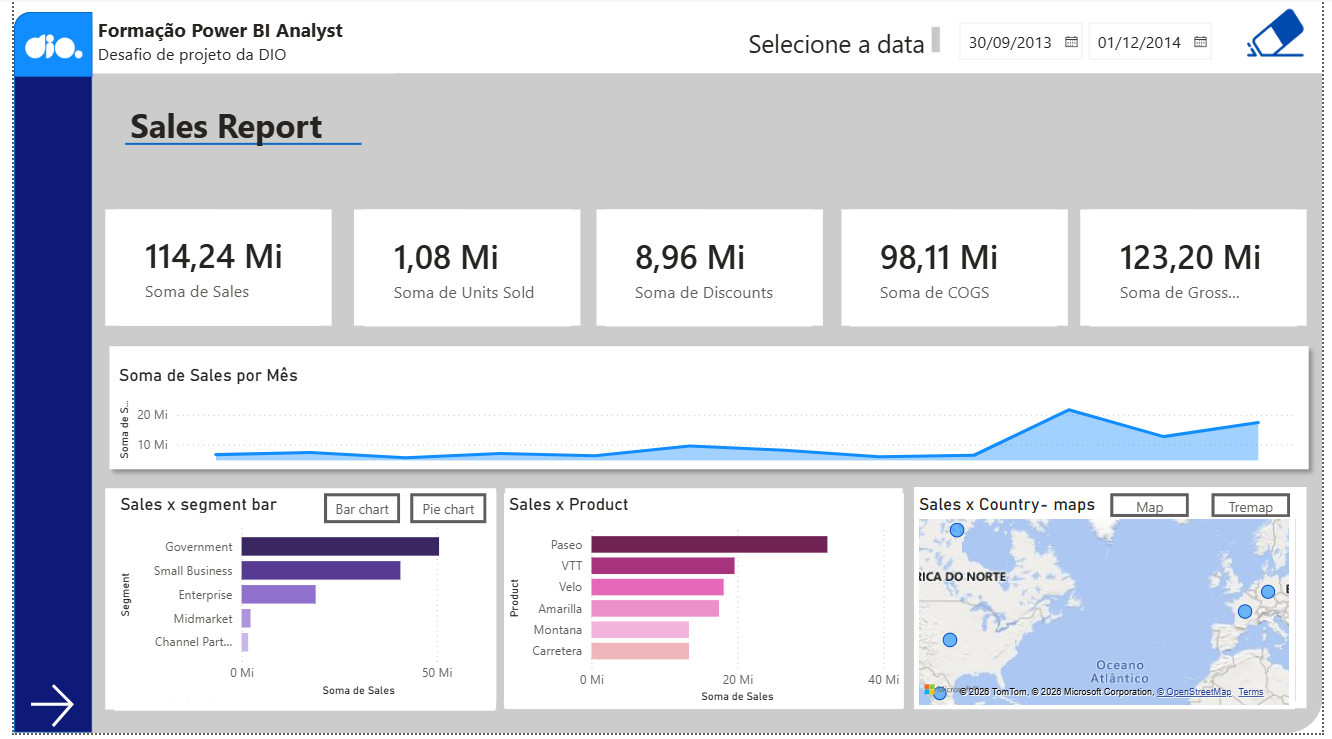

The page's visual inventory and layout, read from the dashboard file:
{"tool":"powerbi","page":{"name":"Página 1","canvas":[1280,720],"ordinal":0},"visuals":[{"type":"image","box":[1195.8,7,75.8,55],"z":0,"group":"g2"},{"type":"shape","box":[0,28.1,1280.3,692.1],"z":0},{"type":"shape","box":[108.4,127,231.1,33],"z":0,"group":"g5"},{"type":"shape","box":[89.3,207.9,221.5,113.7],"z":0,"group":"g1"},{"type":"donutChart","title":"Sales x Segment pie","fields":{"Y":["Sum(financials. Sales)"],"Category":["financials.Segment"]},"box":[97.8,483,372.5,215.2],"z":0,"group":"g4"},{"type":"treemap","title":"Sales x Country tremap","fields":{"Group":["financials.Country"],"Values":["Sum(financials. Sales)"]},"box":[880.6,485.5,378.8,208.7],"z":0,"group":"g3"},{"type":"slicer","fields":{"Values":["financials.Date"]},"box":[912.1,14.3,281.3,47.7],"z":1000,"group":"g2"},{"type":"shape","box":[0,16.7,76.5,702.6],"z":1000},{"type":"textbox","box":[108.4,99.5,228.7,58.7],"z":1000,"group":"g5"},{"type":"shape","box":[332.9,207.9,221.5,113.7],"z":1000,"group":"g1"},{"type":"map","title":"  Sales x Country- maps","fields":{"Size":["Sum(financials. Sales)"],"Category":["financials.Country"]},"box":[880.4,485.4,372.1,211.6],"z":1000,"group":"g3"},{"type":"clusteredBarChart","title":"Sales x segment bar","fields":{"Y":["Sum(financials. Sales)"],"Category":["financials.Segment"]},"box":[99.1,485.7,372.9,203.8],"z":1000,"group":"g4"},{"type":"actionButton","box":[303,485.7,74.6,29.3],"z":1500,"group":"g4"},{"type":"shape","box":[0,14.7,77,63.6],"z":2000},{"type":"textbox","box":[712.8,24.1,198.1,37.9],"z":2000,"group":"g2"},{"type":"shape","box":[569.6,207.9,221.5,113.7],"z":2000,"group":"g1"},{"type":"actionButton","box":[1072.4,485.4,77,23.2],"z":2000,"group":"g3"},{"type":"actionButton","box":[388.1,485.7,74.6,29.3],"z":2000,"group":"g4"},{"type":"actionButton","box":[1195.8,7,73.4,61.1],"z":3000,"group":"g2"},{"type":"image","box":[11,18.3,56.3,59.9],"z":3000},{"type":"shape","box":[809.1,207.9,221.5,113.7],"z":3000,"group":"g1"},{"type":"actionButton","box":[1171.7,485.3,77,23.6],"z":3000,"group":"g3"},{"type":"shape","box":[76.6,15.1,1203.4,60.4],"z":4000},{"type":"shape","box":[1043,207.9,221.5,113.7],"z":4000,"group":"g1"},{"type":"textbox","box":[76.8,15.1,296.4,60.4],"z":5000},{"type":"cardVisual","fields":{"Data":["Sum(financials. Sales)"]},"box":[99.1,208.4,201.9,113.8],"z":5000,"group":"g1"},{"type":"group","id":"g1","title":"Cartões","box":[89.3,207.9,1175.1,114.9],"z":6000},{"type":"cardVisual","fields":{"Data":["Sum(financials.Units Sold)"]},"box":[341.9,208.2,202.2,114.6],"z":6000,"group":"g1"},{"type":"cardVisual","fields":{"Data":["Sum(financials.Discounts)"]},"box":[579,208.2,202.2,114.6],"z":7000,"group":"g1"},{"type":"shape","box":[84.4,332.6,1191,138.2],"z":7000},{"type":"cardVisual","fields":{"Data":["Sum(financials.COGS)"]},"box":[818.5,208.2,202.2,114.6],"z":8000,"group":"g1"},{"type":"shape","box":[89.3,480.6,382.7,216.4],"z":8000},{"type":"cardVisual","fields":{"Data":["Sum(financials.Gross Sales)"]},"box":[1053.2,208.2,202.2,114.6],"z":9000,"group":"g1"},{"type":"shape","box":[480.9,480.9,389.2,216.2],"z":9000},{"type":"shape","box":[880.4,479.4,384,216.4],"z":10000},{"type":"areaChart","fields":{"Y":["Sum(financials. Sales)"],"Category":["financials.Date.Variation.Hierarquia de datas.Mês"]},"box":[97.8,359.5,1161.7,99],"z":11000},{"type":"clusteredBarChart","title":"  Sales x Product","fields":{"Y":["Sum(financials. Sales)"],"Category":["financials.Product"]},"box":[479.4,485.5,391.3,210.3],"z":12000},{"type":"group","id":"g2","title":"filtro po data","box":[712.8,7,558.8,61.1],"z":13000},{"type":"group","id":"g3","title":"Sales x country","box":[880.4,485.3,379.1,211.7],"z":14000},{"type":"group","id":"g4","title":"Sales x segment","box":[97.8,483,374.2,215.2],"z":15000},{"type":"group","id":"g5","title":"Title Report","box":[108.4,99.5,231.1,60.6],"z":16000},{"type":"actionButton","box":[10.4,666.7,65.8,53.7],"z":17000}]}

Visuals, with their boxes on the page's 1280x720 design canvas (x1, y1, x2, y2). These are canvas units, not pixel positions in the 1332x739 screenshot, which may show the page scaled, cropped or inside an application window:
image: 1196/7/1272/62
shape: 0/28/1280/720
shape: 108/127/340/160
shape: 89/208/311/322
"Sales x Segment pie" donutChart: 98/483/470/698
"Sales x Country tremap" treemap: 881/486/1259/694
slicer - financials.Date: 912/14/1193/62
shape: 0/17/76/719
textbox: 108/100/337/158
shape: 333/208/554/322
"  Sales x Country- maps" map: 880/485/1252/697
"Sales x segment bar" clusteredBarChart: 99/486/472/690
actionButton: 303/486/378/515
shape: 0/15/77/78
textbox: 713/24/911/62
shape: 570/208/791/322
actionButton: 1072/485/1149/509
actionButton: 388/486/463/515
actionButton: 1196/7/1269/68
image: 11/18/67/78
shape: 809/208/1031/322
actionButton: 1172/485/1249/509
shape: 77/15/1280/76
shape: 1043/208/1264/322
textbox: 77/15/373/76
cardVisual - Sum(financials. Sales): 99/208/301/322
"Cartões" group: 89/208/1264/323
cardVisual - Sum(financials.Units Sold): 342/208/544/323
cardVisual - Sum(financials.Discounts): 579/208/781/323
shape: 84/333/1275/471
cardVisual - Sum(financials.COGS): 818/208/1021/323
shape: 89/481/472/697
cardVisual - Sum(financials.Gross Sales): 1053/208/1255/323
shape: 481/481/870/697
shape: 880/479/1264/696
areaChart - Sum(financials. Sales) x financials.Date.Variation.Hierarquia de datas.Mês: 98/360/1260/458
"  Sales x Product" clusteredBarChart: 479/486/871/696
"filtro po data" group: 713/7/1272/68
"Sales x country" group: 880/485/1260/697
"Sales x segment" group: 98/483/472/698
"Title Report" group: 108/100/340/160
actionButton: 10/667/76/720
